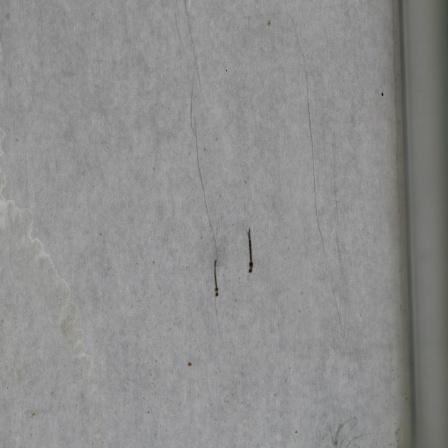Jentik-Nyamuk: (243, 224, 258, 277), (209, 257, 222, 300)
